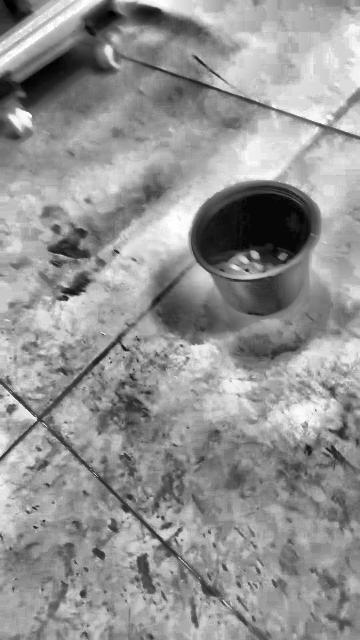pot: (191, 180, 321, 316)
